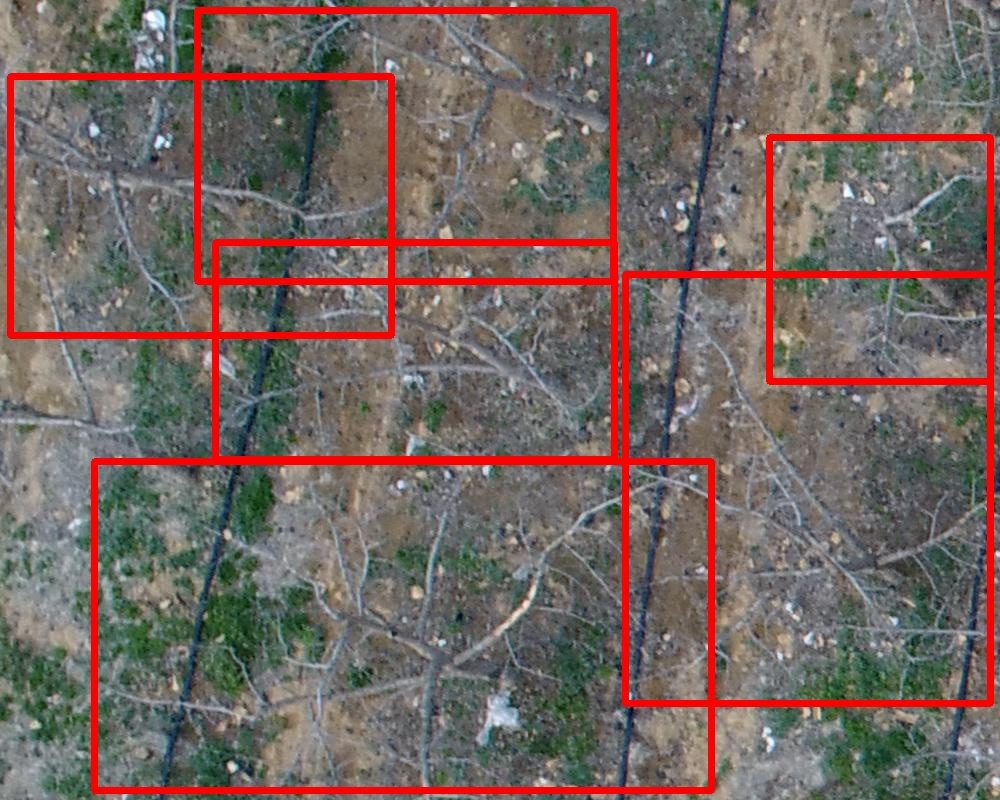apple: (94, 461, 711, 790), (625, 274, 990, 703), (197, 10, 613, 281), (10, 76, 391, 335), (215, 242, 614, 459), (769, 137, 990, 381)
